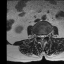CCS_normal: (41, 33, 43, 42)
LFS_normal: (45, 32, 47, 38)
LLS_normal: (43, 33, 45, 39)
RFS_normal: (37, 33, 39, 39)
RLS_normal: (39, 33, 41, 39)
